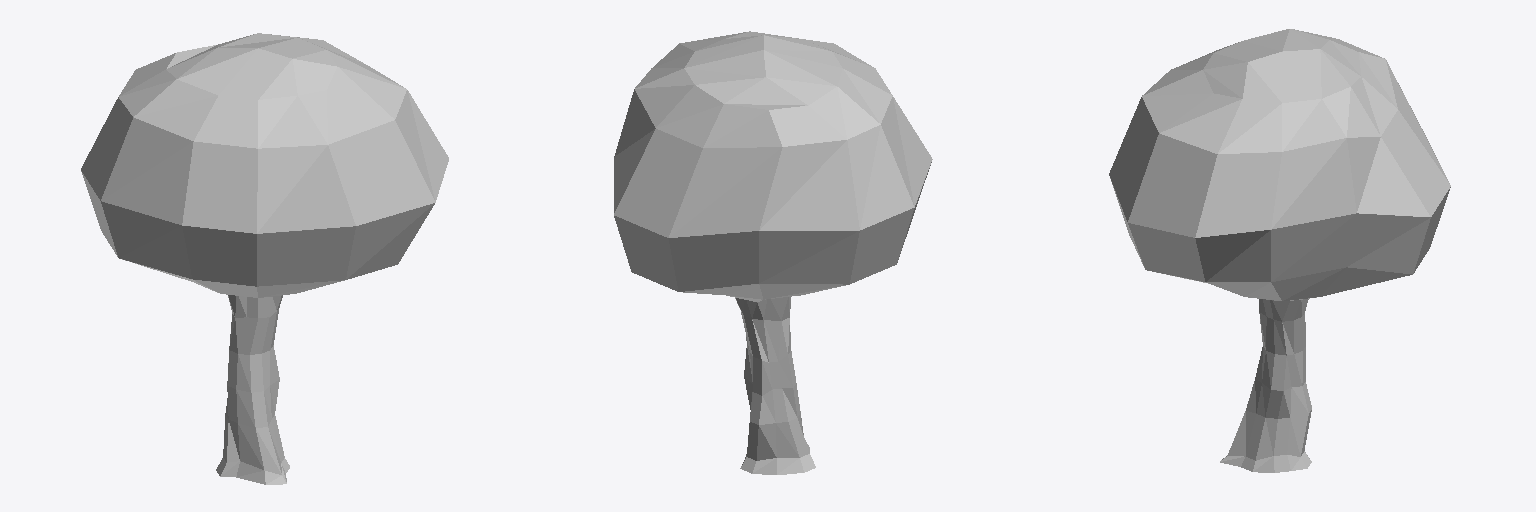
Rendered from tree01.obj.
3 renders of one model, left to right at view 1: azimuth 30°, elevation 25°; view 2: azimuth 150°, elevation 25°; view 3: azimuth 270°, elevation 25°, orthographic.
Visible parts, largest first — view 1: Cylinder; view 2: Cylinder; view 3: Cylinder.
Part boxes in pixels (x1,y1,x2,y2): Cylinder: (81,33,448,484); Cylinder: (614,31,932,474); Cylinder: (1109,29,1450,472).
Bounding box in the file's own units: 5.7 × 7.44 × 5.6.